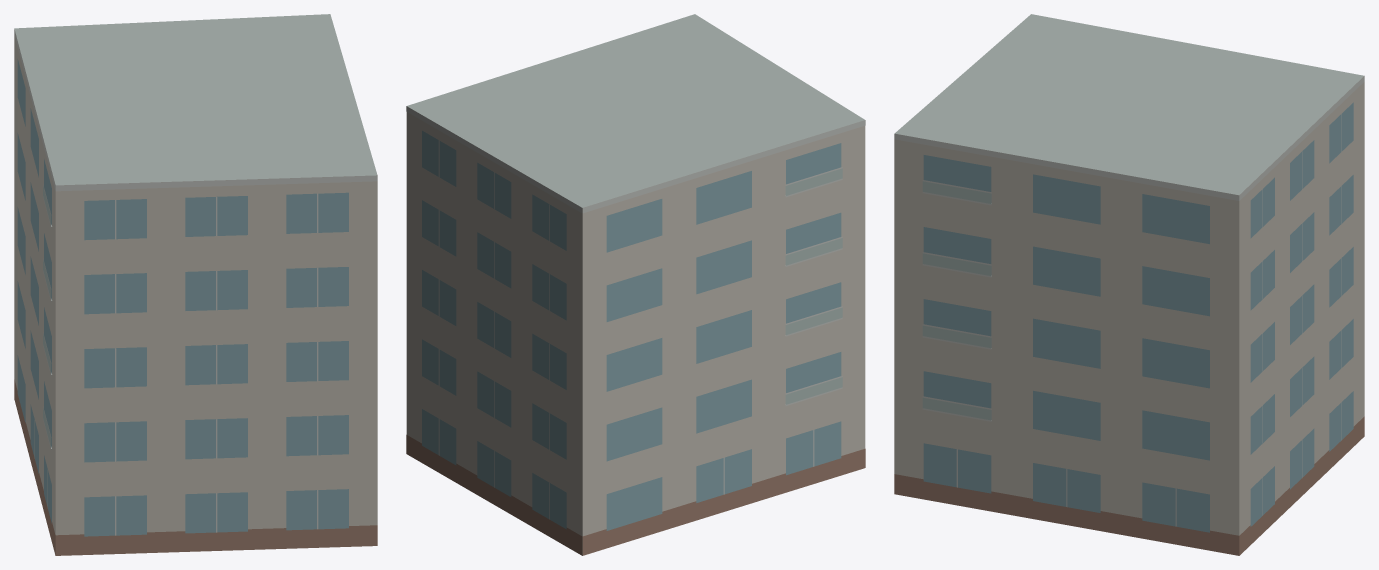
File: survey-upis-32869404.glb
The picture shows the model from 3 angles, left to right: view 1: azimuth 30°, elevation 25°; view 2: azimuth 150°, elevation 25°; view 3: azimuth 270°, elevation 25°; orthographic projection. The views are drawn at different scales.
Parts seen in each view (by area): view 1: survey-upis-32869404.tmp; view 2: survey-upis-32869404.tmp; view 3: survey-upis-32869404.tmp.
Part boxes in pixels (bbox=[...]): survey-upis-32869404.tmp: bbox=[14, 14, 377, 555]; survey-upis-32869404.tmp: bbox=[406, 14, 865, 555]; survey-upis-32869404.tmp: bbox=[894, 14, 1364, 555].
Size of the model in its own units: 16.45 by 15.25 by 18.03.
